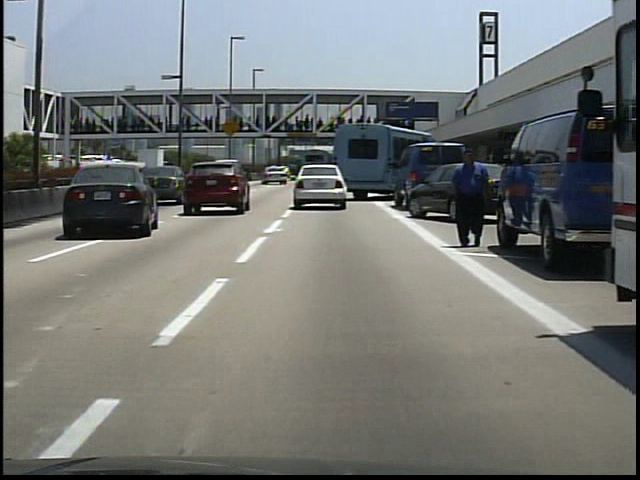person: (446, 147, 496, 249)
